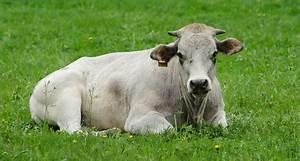cow: (28, 22, 244, 136)
